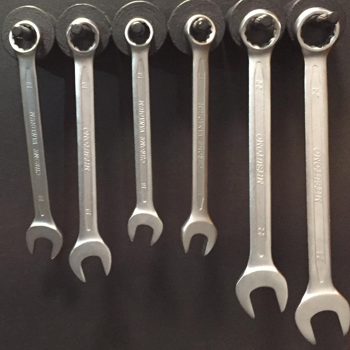bottom: (233, 262, 290, 321), (294, 288, 350, 345), (65, 235, 115, 284), (22, 220, 65, 262), (180, 214, 219, 258), (125, 208, 165, 248)
top: (290, 5, 341, 55), (236, 7, 283, 54), (64, 14, 103, 59), (181, 10, 218, 48), (7, 18, 42, 56), (122, 15, 156, 49)
